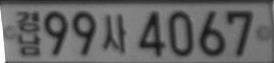0: (168, 10, 193, 56)
4: (138, 10, 165, 56)
6: (198, 10, 226, 57)
7: (226, 10, 253, 56)
9: (71, 10, 97, 56), (43, 9, 68, 55)
경남_V: (15, 10, 42, 56)
사: (102, 12, 128, 53)
